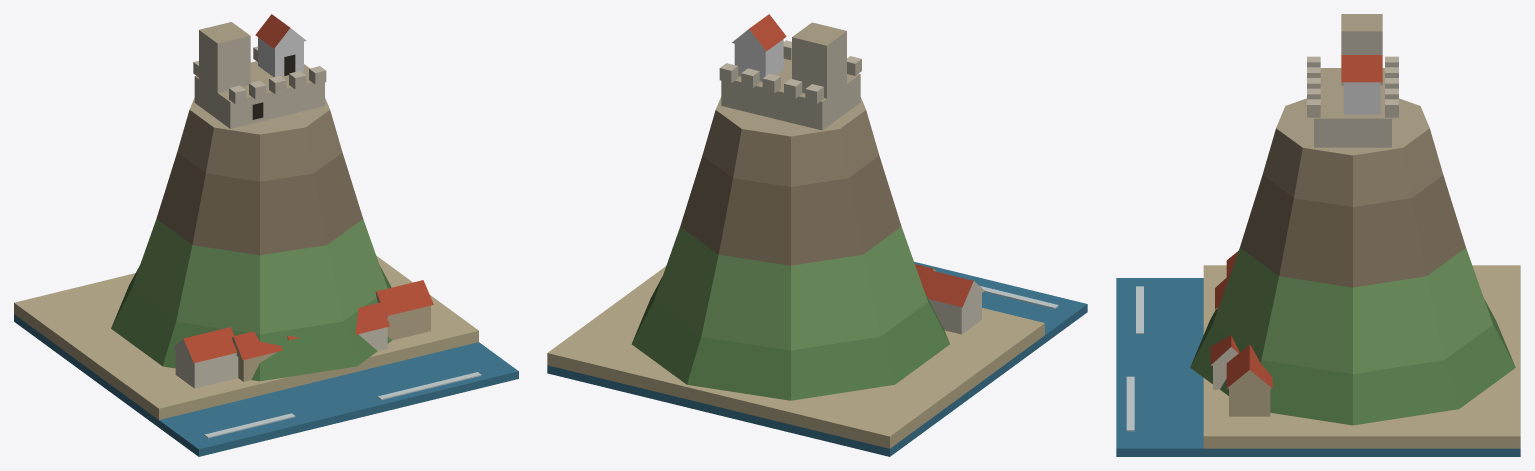
Rendered from santaCruz.glb.
3 views of the same model, side by side, from view 1: azimuth 30°, elevation 25°; view 2: azimuth 150°, elevation 25°; view 3: azimuth 270°, elevation 25° (orthographic). The views are drawn at different scales.
Visible parts, largest first — view 1: santaCruz; view 2: santaCruz; view 3: santaCruz.
Boxes of the visible parts, <box> form: santaCruz: <box>14,14,518,456</box>; santaCruz: <box>547,14,1087,456</box>; santaCruz: <box>1116,14,1520,456</box>.
Bounding box in the file's own units: 1.76 × 1.62 × 1.76.
